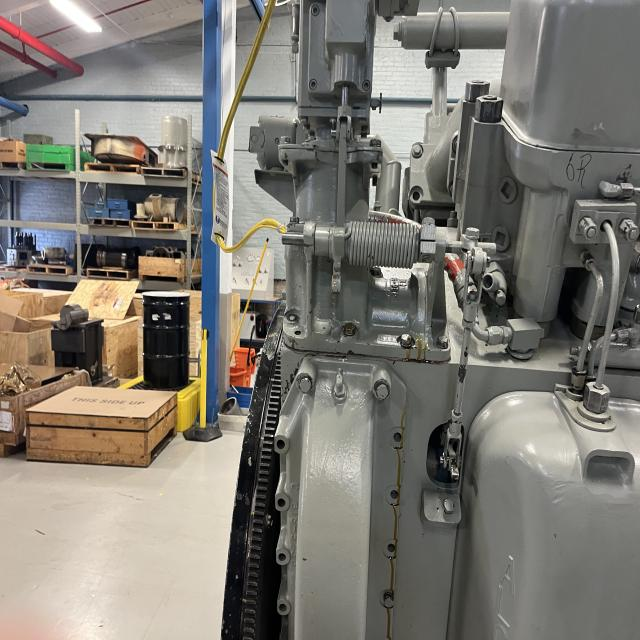Oil Leak: (377, 404, 406, 640)
